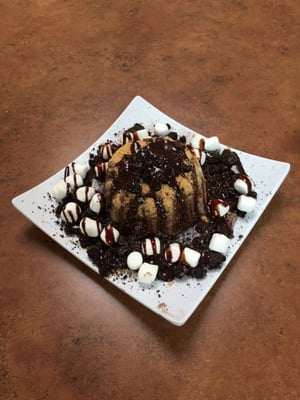sushi: (22, 110, 267, 327)
